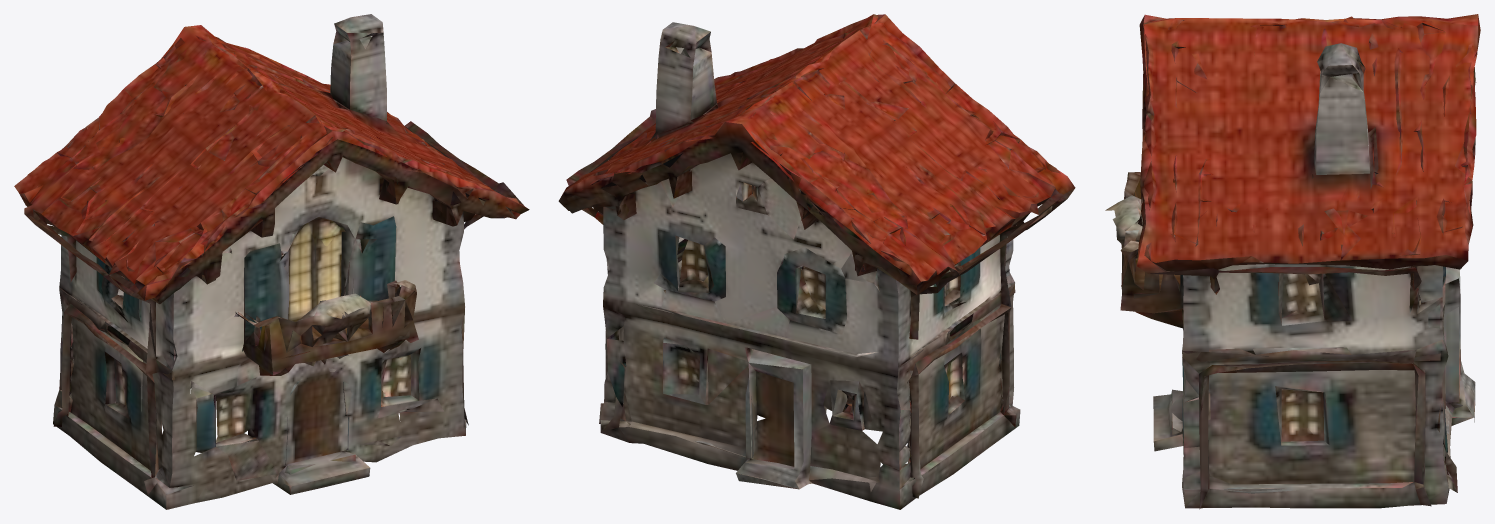
The picture shows the model from 3 angles, left to right: view 1: azimuth 30°, elevation 25°; view 2: azimuth 150°, elevation 25°; view 3: azimuth 270°, elevation 25°; orthographic projection. The views are drawn at different scales.
Parts seen in each view (by area): view 1: alpine__tower_2__neural_lod; view 2: alpine__tower_2__neural_lod; view 3: alpine__tower_2__neural_lod.
Boxes of the visible parts, x1,y1,x2,y2 form: alpine__tower_2__neural_lod: (14,14,529,509); alpine__tower_2__neural_lod: (558,14,1075,509); alpine__tower_2__neural_lod: (1105,14,1480,509).
Bounding box in the file's own units: 0.969 × 0.8991 × 0.6902.
Materials: 1 (1 with a texture image).
